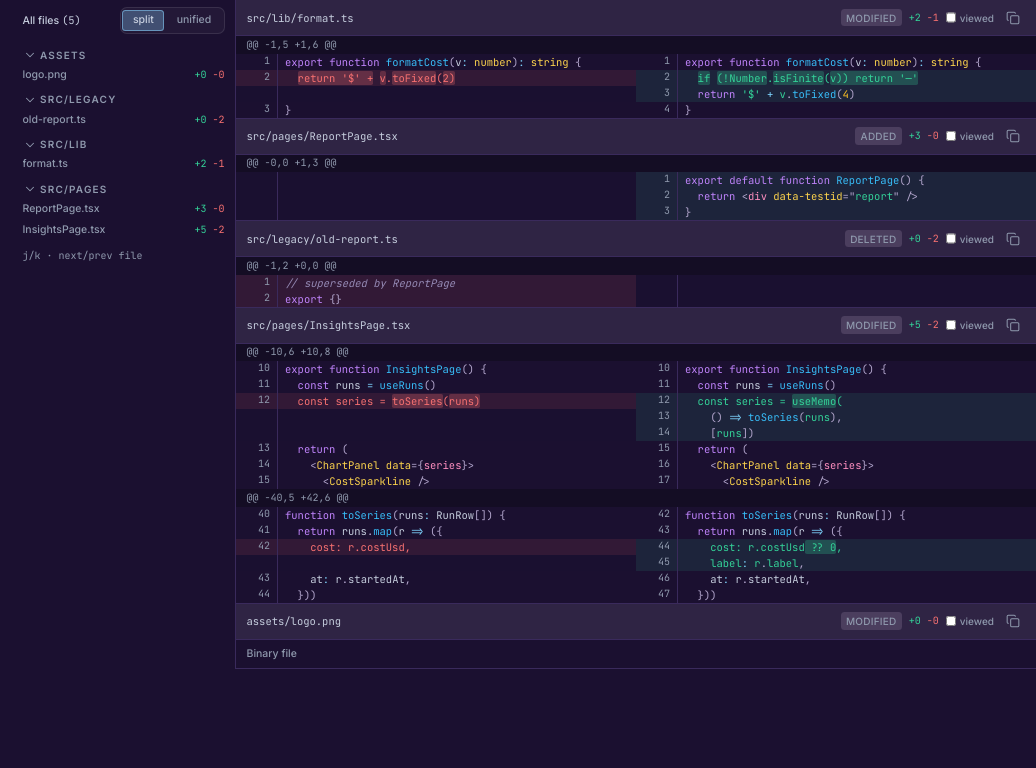
Test: ChangesLayout › viewed toggle marks the tree row
Click the checkbox with test id "diff-viewed-src/lib/format.ts": (951, 18) [946,12,956,23]
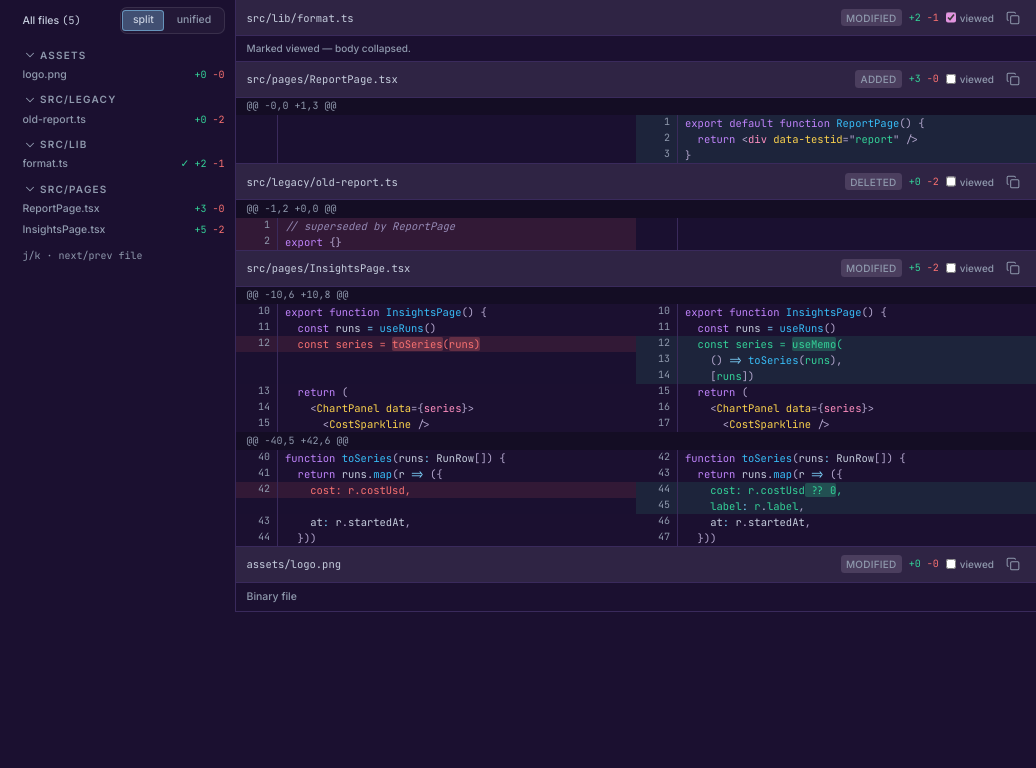
Expected: the button with test id "changes-file-src/lib/format.ts" shows "✓", [12,154,235,175]
